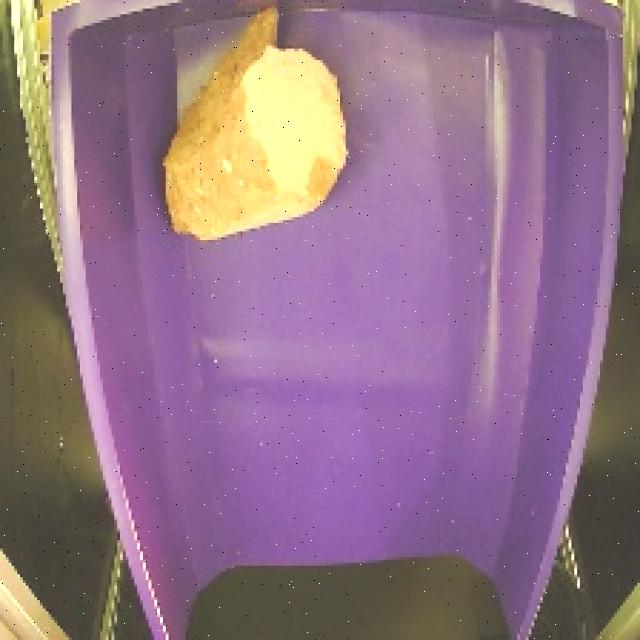brick: (159, 0, 360, 258)
